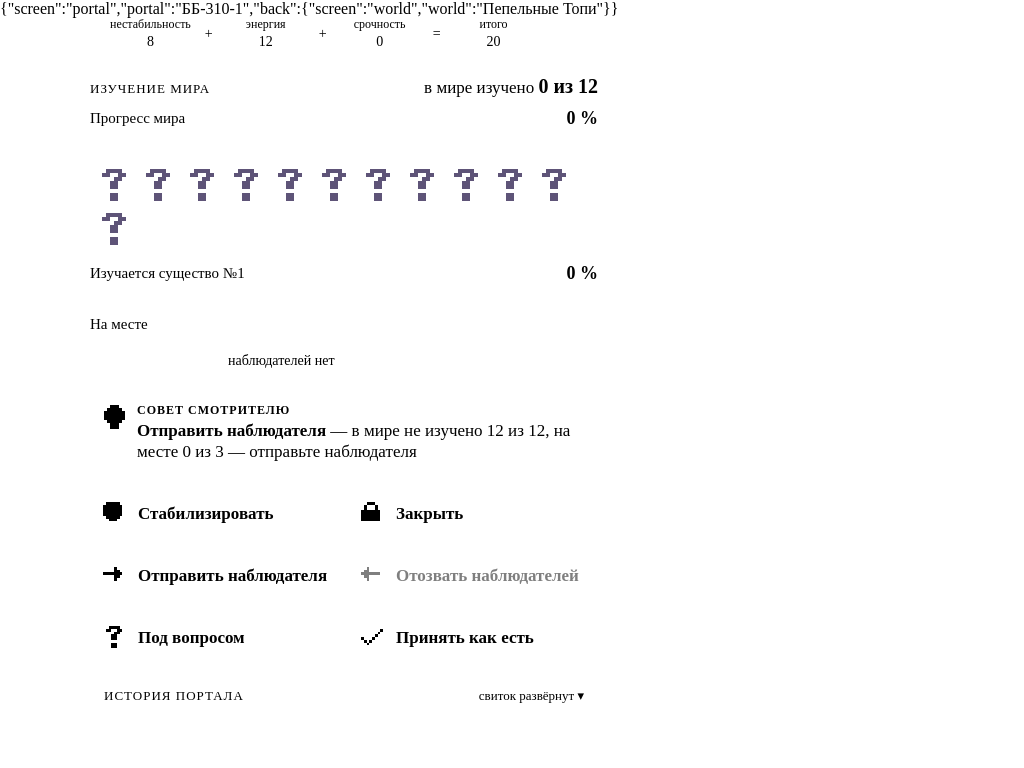
PortalCardDialog: закрытие портала › «Закрыть всё равно» закрывает портал и убирает свиток
The image size is (1024, 768).
(page scrolled)
What coordinates should you click on to do the following:
click the button "Закрыть"
I would click on:
 (473, 513)
Its box is [348, 486, 598, 540].
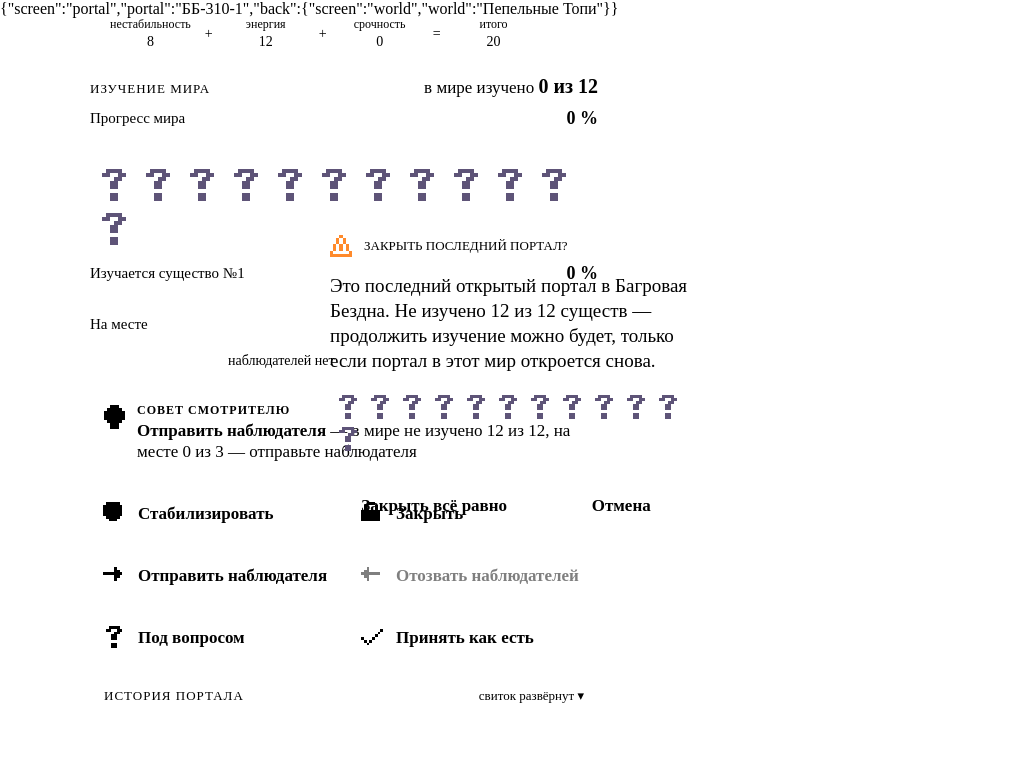
What coordinates should you click on to do the following:
click the button "Закрыть всё равно"
I would click on:
 (434, 505)
Its box is [330, 479, 538, 531].
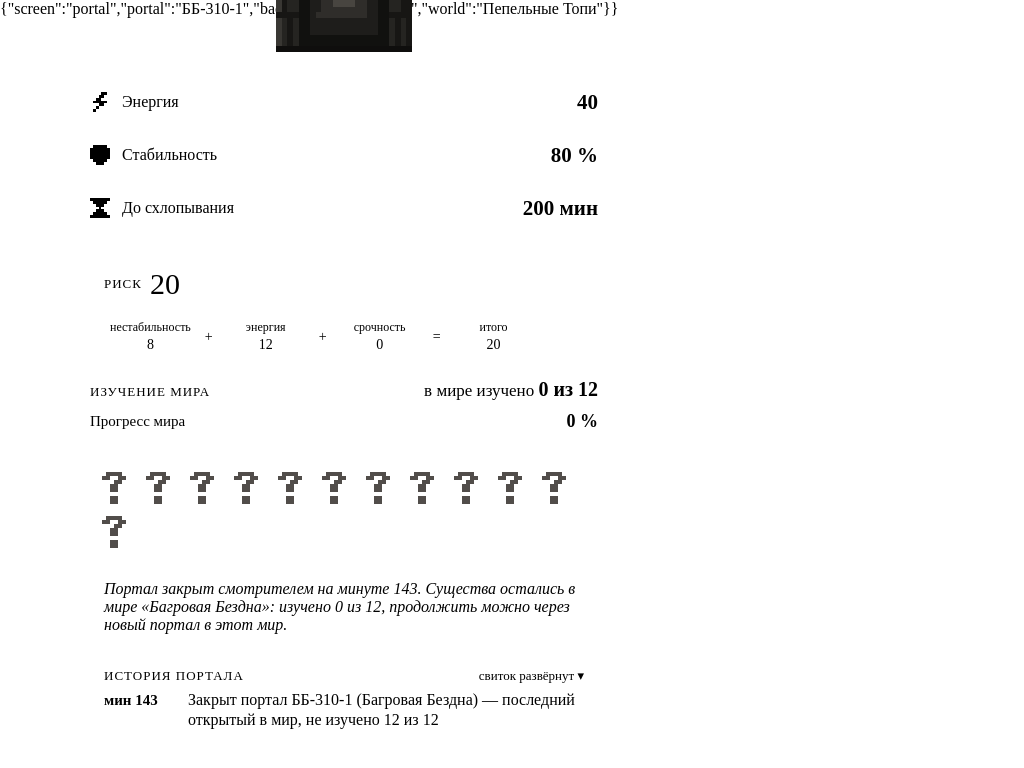
Check: the text "ЗАКРЫТЬ ПОСЛЕДНИЙ ПОРТАЛ?" is gone
